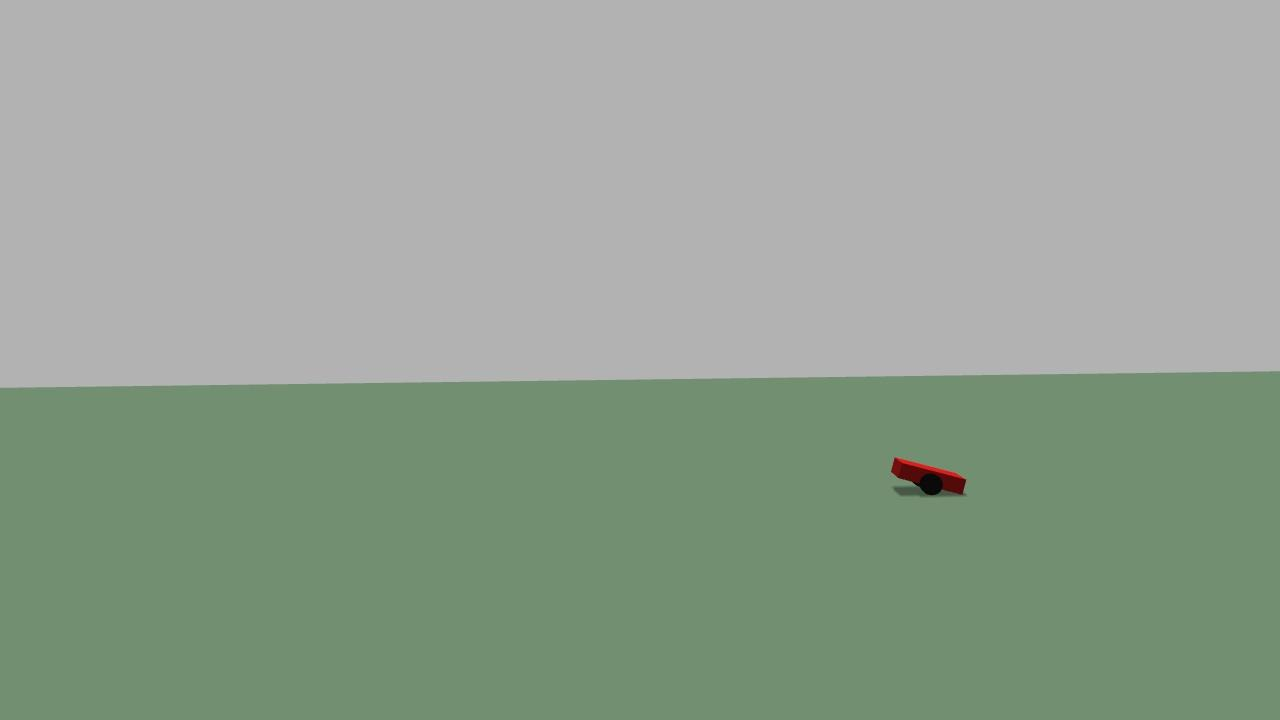ground_vehicle: (886, 451, 971, 507)
